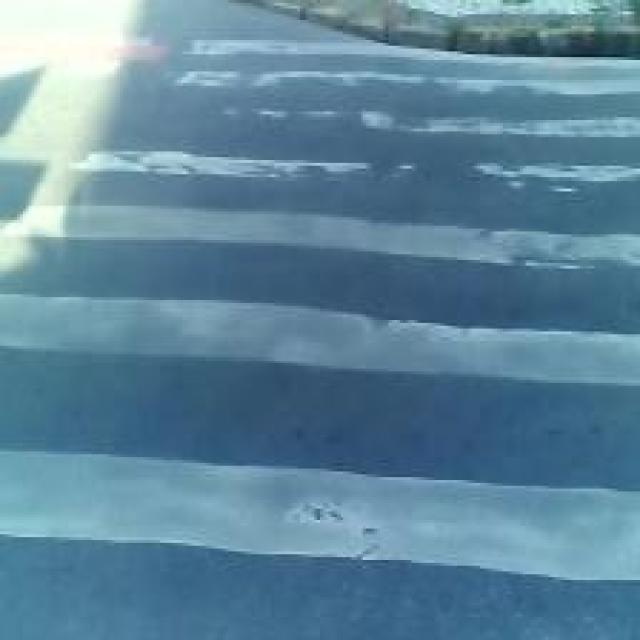zebra: (178, 28, 638, 640)
